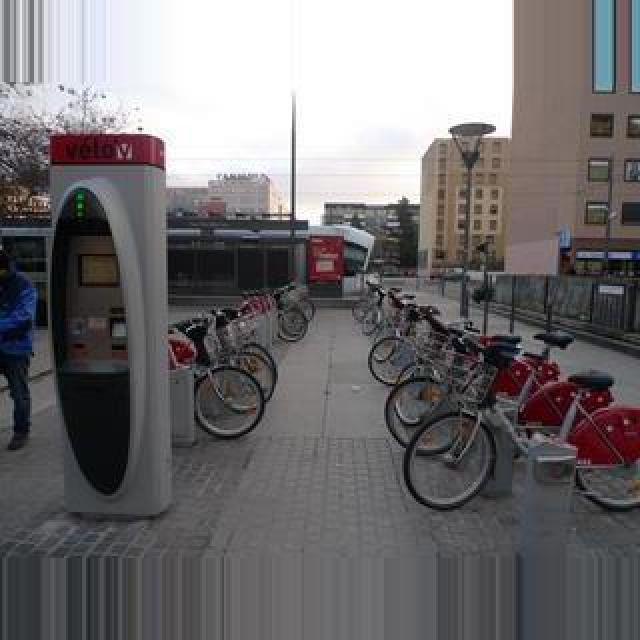Bolan-Bike: (188, 222, 376, 298)
Person: (398, 318, 634, 512), (168, 308, 270, 442)
